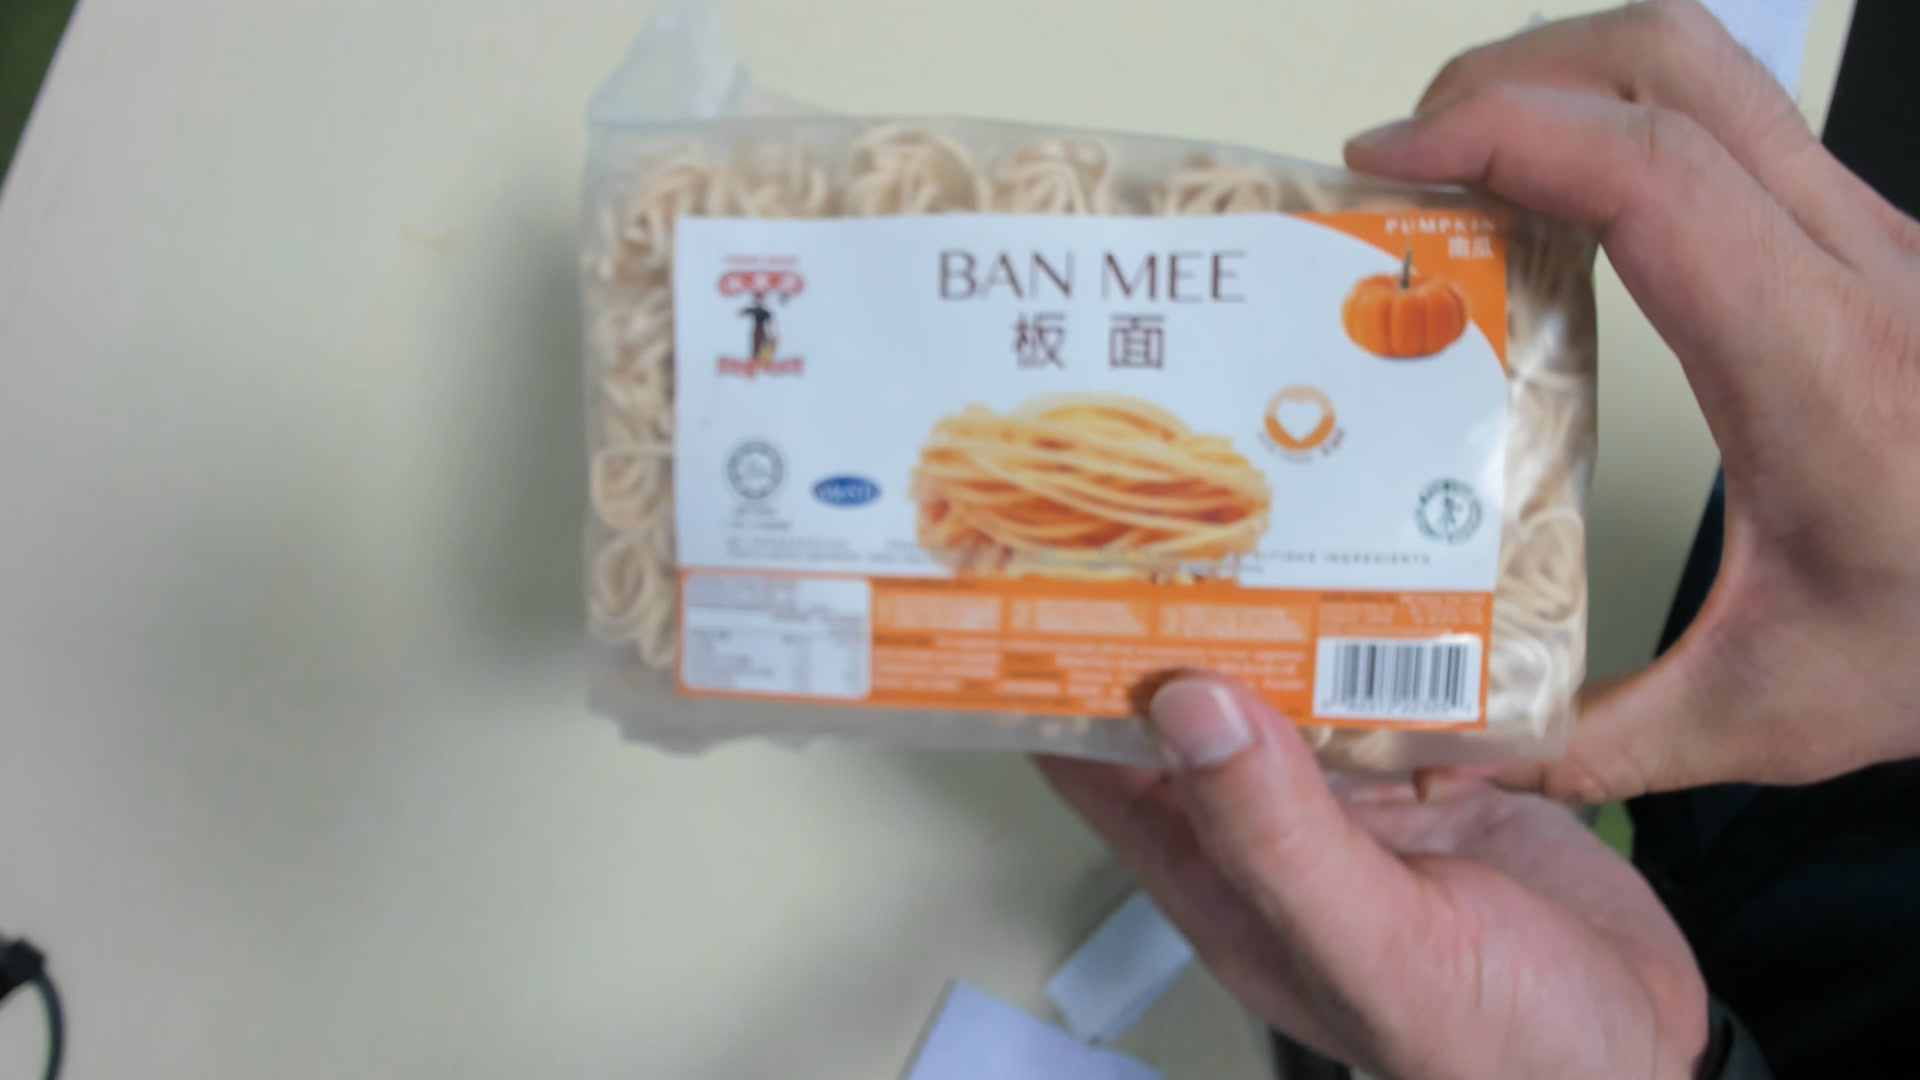OtherNoodles_500-599g_Halal_NonHealthy: (583, 132, 1594, 785)
